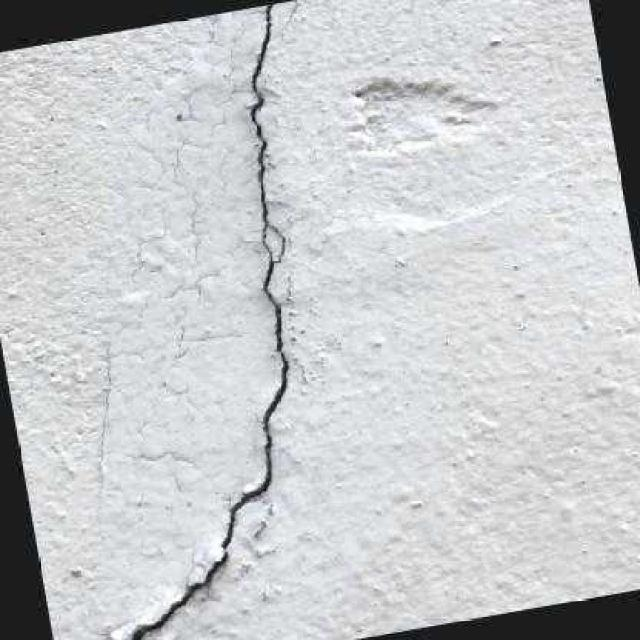D00: (109, 4, 289, 640)
